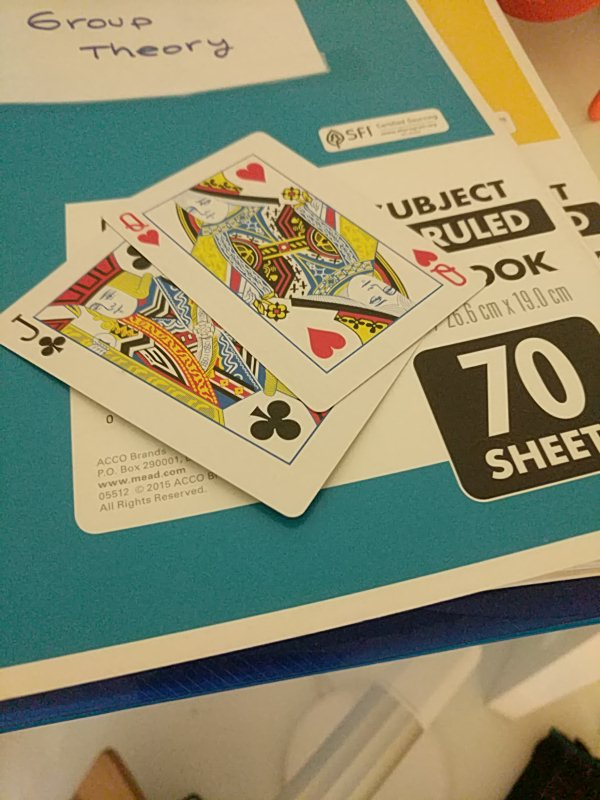Clubs: (1, 226, 423, 518)
Hearts: (102, 129, 488, 408)
